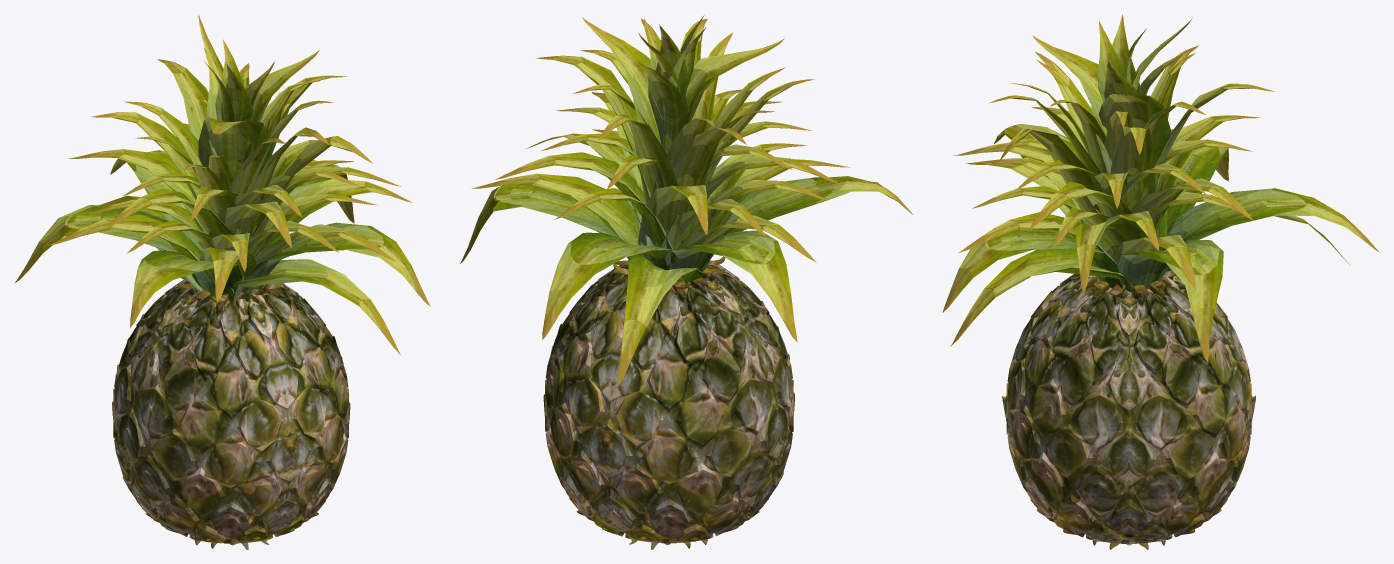
The model's file is pineapple.obj.
3 renders of one model, left to right at view 1: azimuth 30°, elevation 25°; view 2: azimuth 150°, elevation 25°; view 3: azimuth 270°, elevation 25°, orthographic. The views are drawn at different scales.
Visible parts, largest first — view 1: pineapple; view 2: pineapple; view 3: pineapple.
Boxes of the visible parts, bbox=[...] form: pineapple: bbox=[15, 14, 430, 549]; pineapple: bbox=[460, 15, 912, 549]; pineapple: bbox=[942, 15, 1379, 549].
Size of the model in its own units: 23.29 by 33.19 by 25.72.
Materials: 1 (1 with a texture image).
